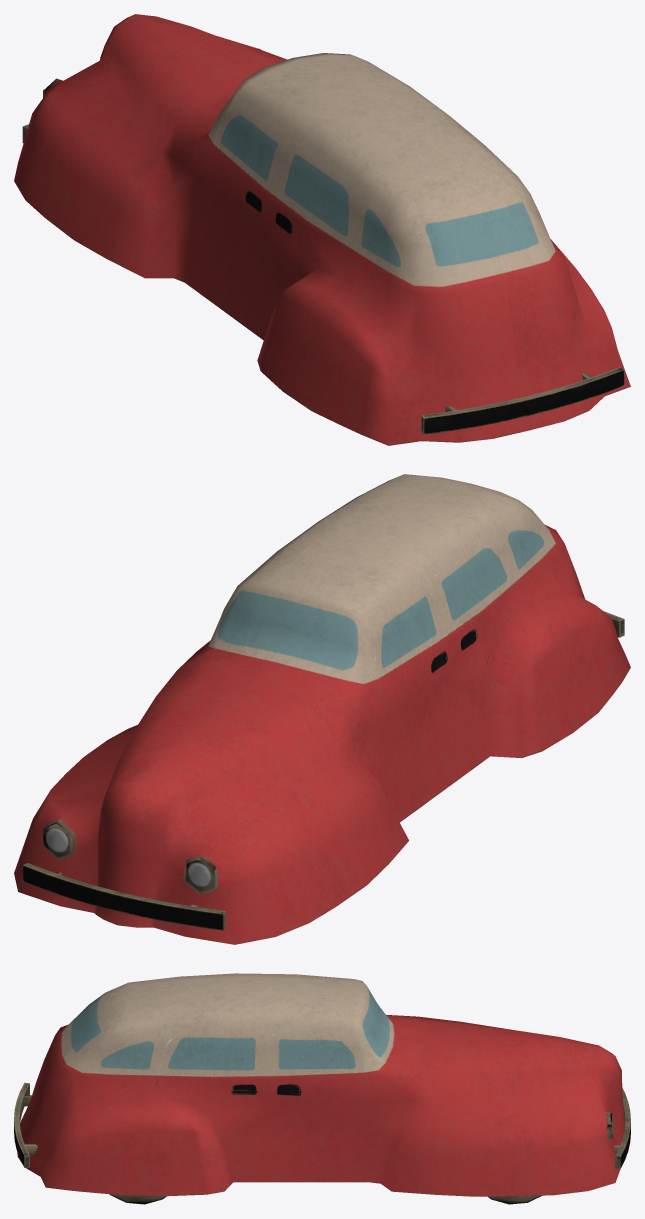
File: ToyCar.fbx
3 views of the same model, one above another, from view 1: azimuth 30°, elevation 25°; view 2: azimuth 150°, elevation 25°; view 3: azimuth 270°, elevation 25° (orthographic). The views are drawn at different scales.
Visible parts, largest first — view 1: ToyCar; view 2: ToyCar; view 3: ToyCar.
Boxes of the visible parts, x1,y1,x2,y2 form: ToyCar: (14,14,630,445); ToyCar: (14,474,630,944); ToyCar: (14,973,630,1204).
Size of the model in its own units: 31.33 by 24.97 by 76.87.
Materials: 1 (1 with a texture image).
